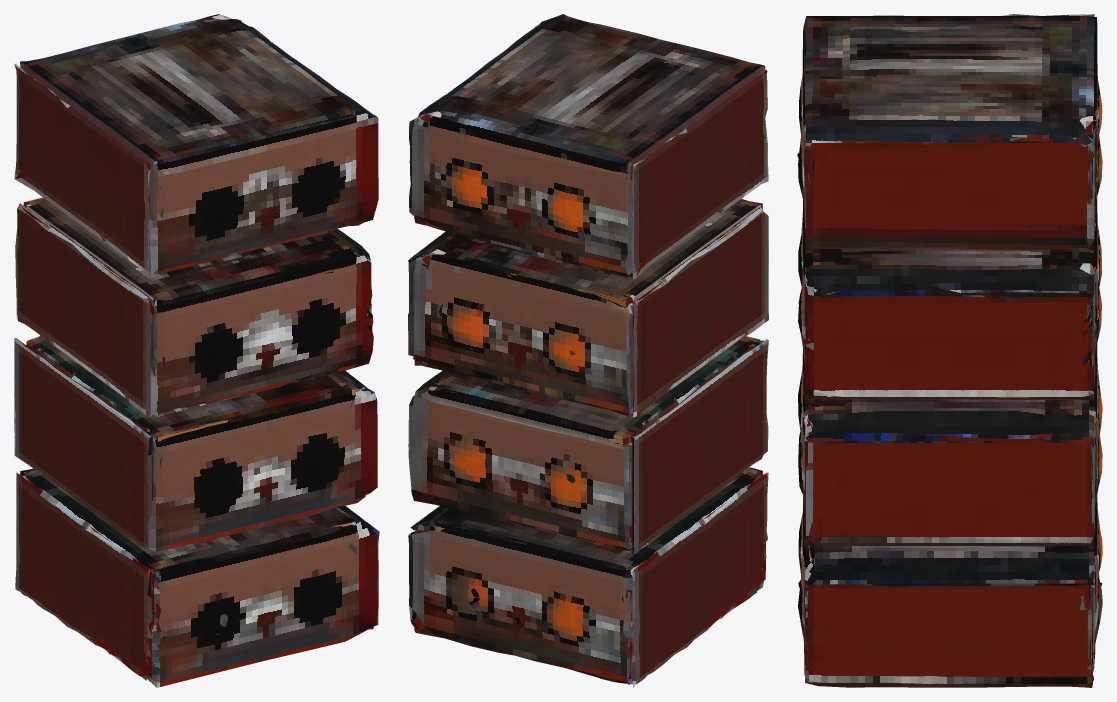
File: DifficultyTotem_QuadRetro.glb
3 views of the same model, side by side, from view 1: azimuth 30°, elevation 25°; view 2: azimuth 150°, elevation 25°; view 3: azimuth 270°, elevation 25° (orthographic). The views are drawn at different scales.
Parts seen in each view (by area): view 1: DifficultyTotem_QuadRemesh; view 2: DifficultyTotem_QuadRemesh; view 3: DifficultyTotem_QuadRemesh.
Part boxes in pixels (<box>): DifficultyTotem_QuadRemesh: <box>14,14,379,687</box>; DifficultyTotem_QuadRemesh: <box>408,14,768,687</box>; DifficultyTotem_QuadRemesh: <box>797,14,1102,687</box>.
Bounding box in the file's own units: 0.9084 × 2 × 0.9818.
1 material, 1 textured.
